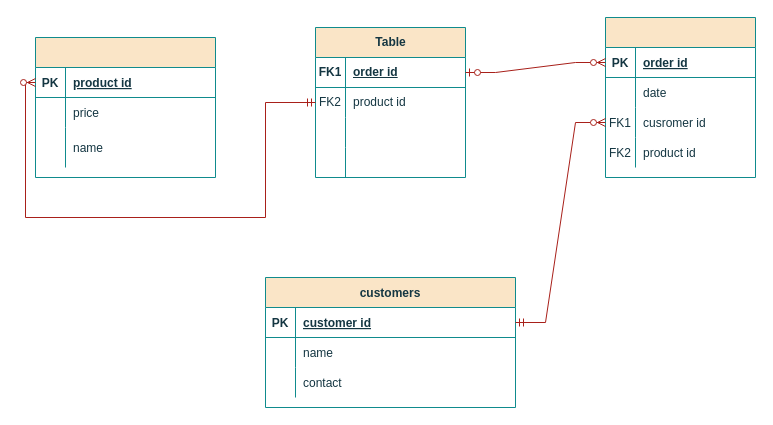
Image size: 773x425. Some labels were removed from this diagram. The shapes that lost their labels are listed below. From the top down, each one's box as (x1, y1, x2, y2) in pixels, then its label:
(34, 36, 216, 178): products
(604, 16, 756, 178): Orders
